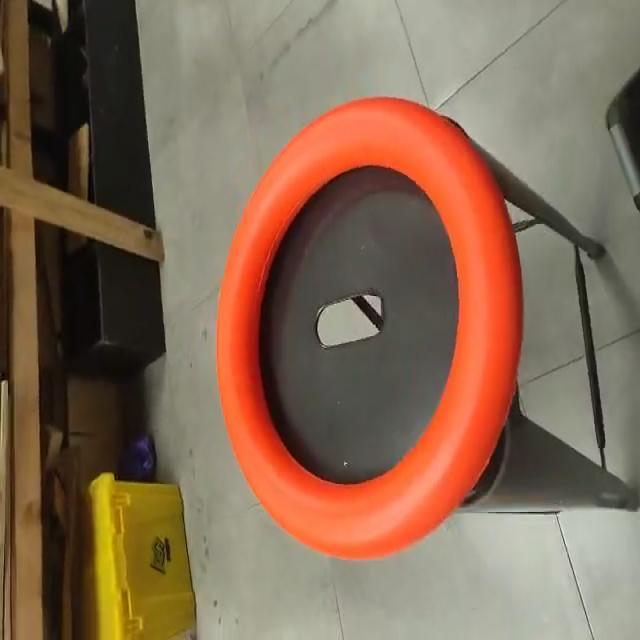note: (212, 96, 537, 564)
